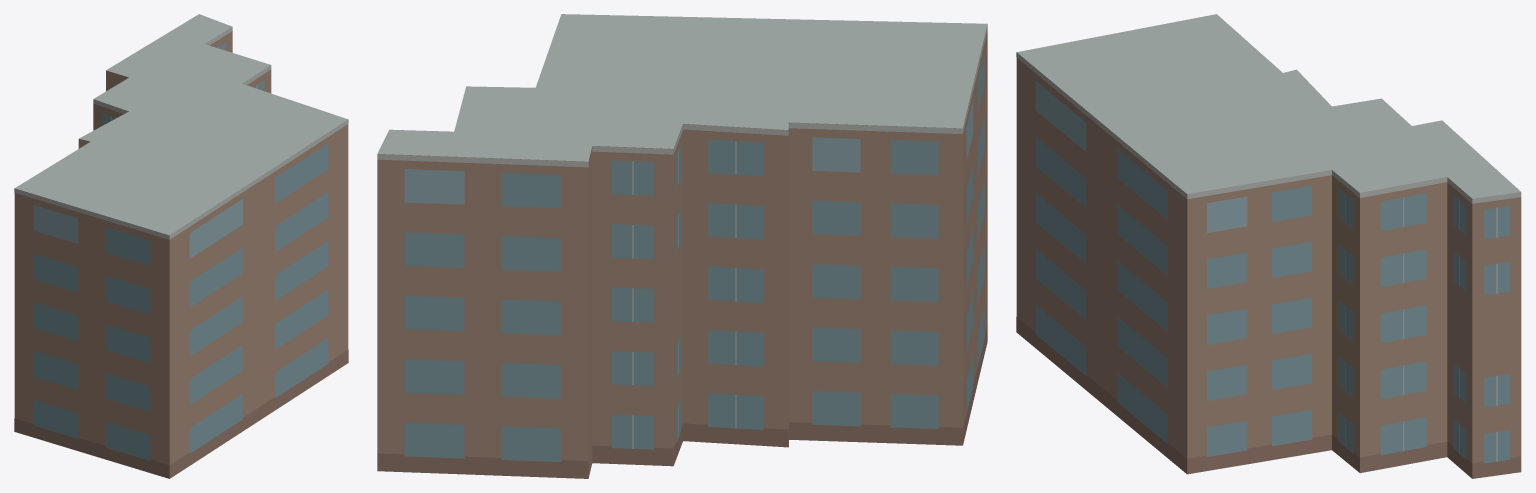
File: survey-upis-32954505.glb
3 views of the same model, side by side, from view 1: azimuth 30°, elevation 25°; view 2: azimuth 150°, elevation 25°; view 3: azimuth 270°, elevation 25° (orthographic). The views are drawn at different scales.
Parts seen in each view (by area): view 1: survey-upis-32954505.tmp; view 2: survey-upis-32954505.tmp; view 3: survey-upis-32954505.tmp.
Boxes of the visible parts, x1,y1,x2,y2 form: survey-upis-32954505.tmp: [14, 14, 348, 478]; survey-upis-32954505.tmp: [377, 14, 987, 478]; survey-upis-32954505.tmp: [1016, 14, 1521, 478].
Bounding box in the file's own units: 19.04 × 13.45 × 21.98.
